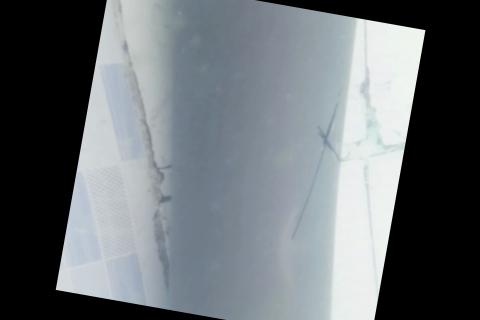keretakan: (288, 81, 350, 245)
